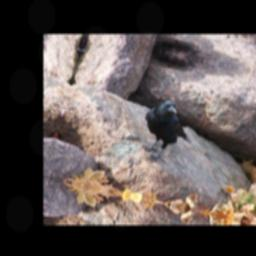Crow: (132, 94, 207, 171)
